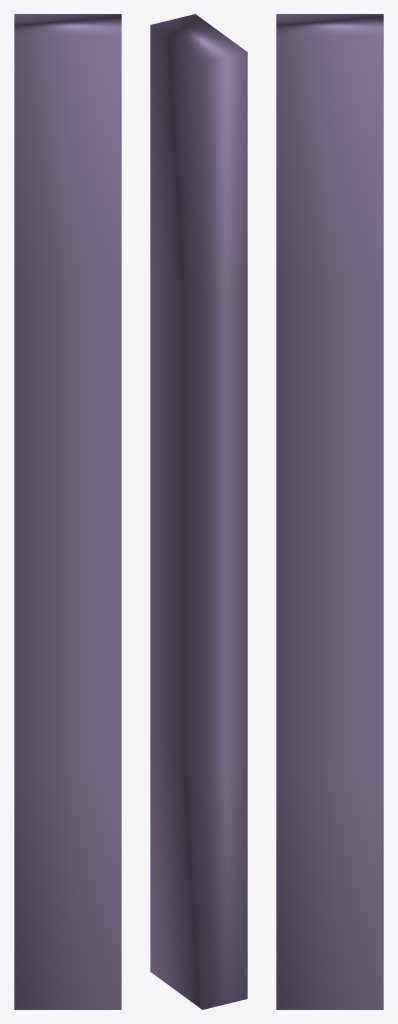
The model's file is Wall_Orn_01_x4.fbx.
3 views of the same model, side by side, from view 1: azimuth 90°, elevation 25°; view 2: azimuth 210°, elevation 25°; view 3: azimuth 270°, elevation 25° (orthographic). The views are drawn at different scales.
Visible parts, largest first — view 1: Wall_Orn_01_x4; view 2: Wall_Orn_01_x4; view 3: Wall_Orn_01_x4.
Part boxes in pixels (<box>): Wall_Orn_01_x4: <box>14,14,121,1009</box>; Wall_Orn_01_x4: <box>150,14,247,1009</box>; Wall_Orn_01_x4: <box>276,14,383,1009</box>.
Bounding box in the file's own units: 30 × 600 × 60.
